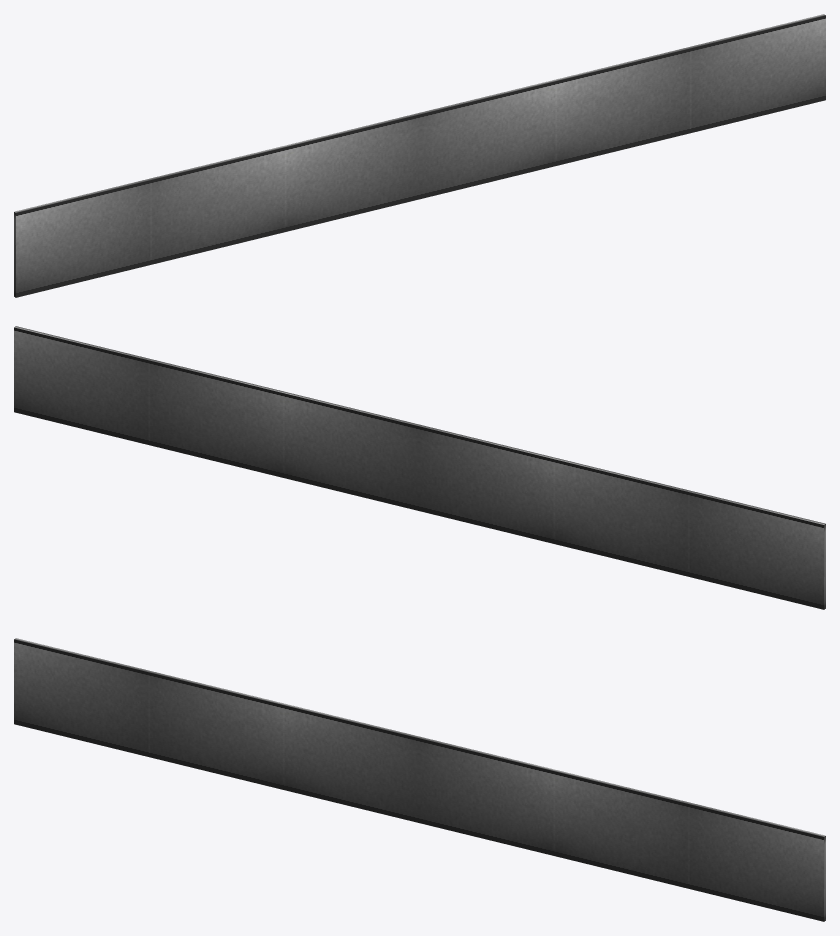
Rendered from sciana.FBX.
3 views of the same model, one above another, from view 1: azimuth 30°, elevation 25°; view 2: azimuth 150°, elevation 25°; view 3: azimuth 330°, elevation 25° (orthographic).
Visible parts, largest first — view 1: Box018; view 2: Box018; view 3: Box018.
Boxes of the visible parts, bbox=[...] form: Box018: bbox=[14, 14, 825, 297]; Box018: bbox=[14, 326, 825, 609]; Box018: bbox=[14, 638, 825, 921].
Size of the model in its own units: 98.43 by 9.84 by 0.3937.
1 material, 1 textured.
